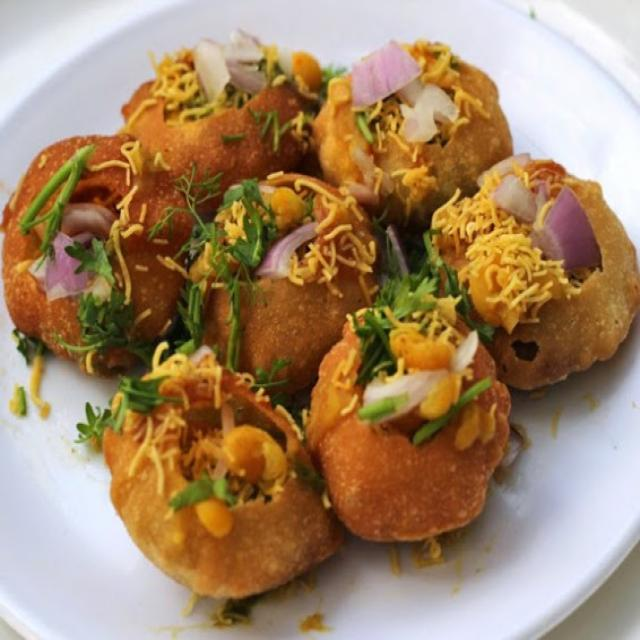paani_puri: (29, 36, 626, 574)
